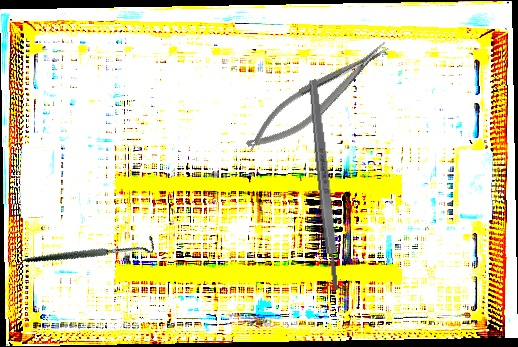Hook Surgical: (23, 195, 158, 305)
Needle Holder: (237, 35, 400, 160)
Scalpel Handle: (306, 78, 343, 292)
